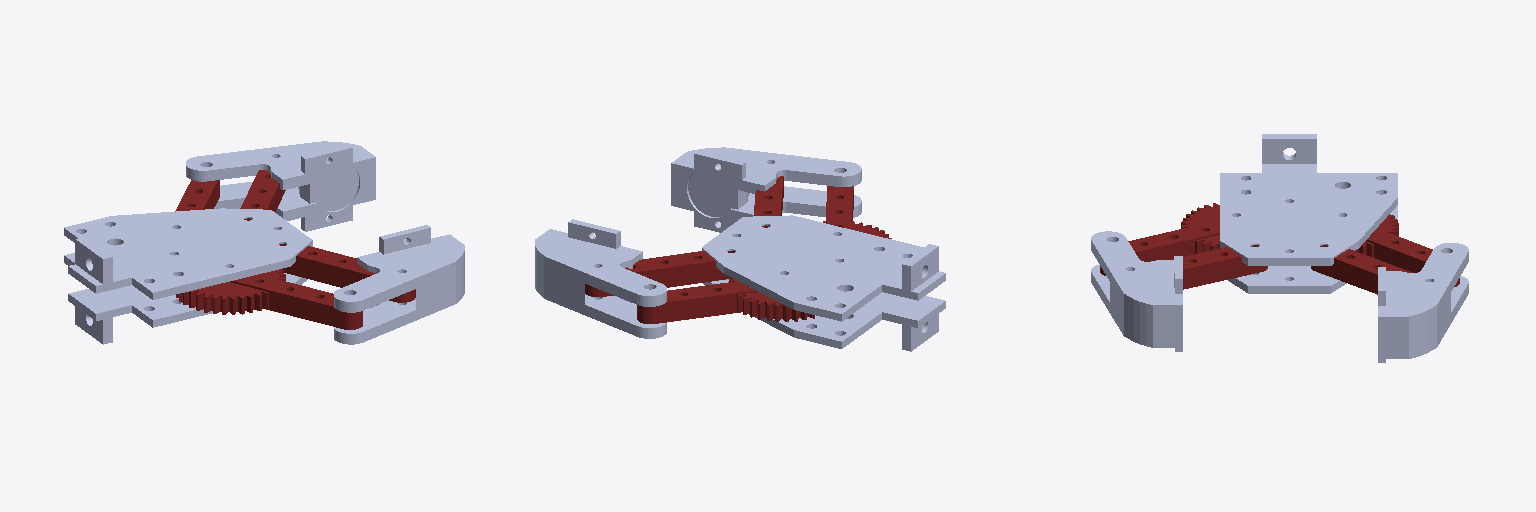
Rendered from gripper.obj.
The picture shows the model from 3 angles: view 1: azimuth 30°, elevation 25°; view 2: azimuth 150°, elevation 25°; view 3: azimuth 270°, elevation 25°; orthographic projection.
Parts seen in each view (by area): view 1: Partx, bar_1, bar, Part2_GearTrax_1, Partx_2, part1, part1_1, Part2_GearTrax; view 2: Partx, bar, bar_1, Partx_2, Part2_GearTrax, part1_1, Part2_GearTrax_1, part1; view 3: Partx, bar, bar_1, Part2_GearTrax_1, Partx_2, Part2_GearTrax, part1, part1_1.
Part boxes in pixels (left/top/right/bottom): Partx: left=64, top=208, right=312, bottom=299; bar_1: left=186, top=141, right=375, bottom=231; bar: left=334, top=225, right=464, bottom=344; Part2_GearTrax_1: left=176, top=269, right=362, bottom=329; Partx_2: left=64, top=253, right=307, bottom=344; part1: left=279, top=244, right=415, bottom=302; part1_1: left=240, top=170, right=285, bottom=220; Part2_GearTrax: left=175, top=180, right=219, bottom=211; Partx: left=702, top=215, right=945, bottom=321; bar: left=671, top=147, right=861, bottom=232; bar_1: left=535, top=219, right=666, bottom=338; Partx_2: left=703, top=279, right=945, bottom=351; Part2_GearTrax: left=637, top=278, right=814, bottom=323; part1_1: left=585, top=251, right=734, bottom=296; Part2_GearTrax_1: left=823, top=186, right=891, bottom=238; part1: left=754, top=176, right=783, bottom=227; Partx: left=1220, top=134, right=1397, bottom=265; bar: left=1091, top=231, right=1182, bottom=351; bar_1: left=1378, top=243, right=1468, bottom=362; Part2_GearTrax_1: left=1100, top=203, right=1219, bottom=275; Partx_2: left=1228, top=205, right=1397, bottom=293; Part2_GearTrax: left=1355, top=214, right=1459, bottom=286; part1: left=1171, top=245, right=1267, bottom=289; part1_1: left=1311, top=245, right=1412, bottom=294.
Bounding box in the file's own units: 141 × 34 × 136.